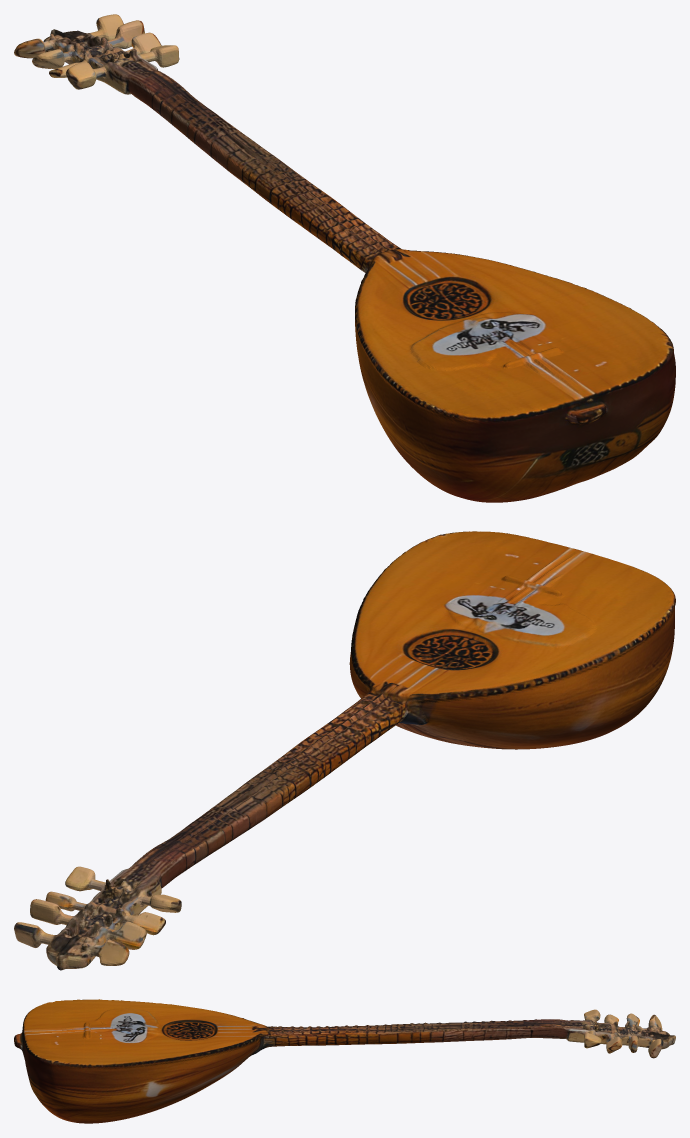
The model's file is dongbula.gltf.
3 views of the same model, one above another, from view 1: azimuth 30°, elevation 25°; view 2: azimuth 150°, elevation 25°; view 3: azimuth 270°, elevation 25° (orthographic). The views are drawn at different scales.
Visible parts, largest first — view 1: tripo_node_a181202a-92e1-4513-941c-a50ab1b290df; view 2: tripo_node_a181202a-92e1-4513-941c-a50ab1b290df; view 3: tripo_node_a181202a-92e1-4513-941c-a50ab1b290df.
Part boxes in pixels (box(x1,y1,x2,y2)): tripo_node_a181202a-92e1-4513-941c-a50ab1b290df: box(14, 14, 675, 502); tripo_node_a181202a-92e1-4513-941c-a50ab1b290df: box(14, 531, 675, 970); tripo_node_a181202a-92e1-4513-941c-a50ab1b290df: box(14, 999, 675, 1123).
Bounding box in the file's own units: 28.75 × 14.85 × 105.
1 material, 1 textured.
